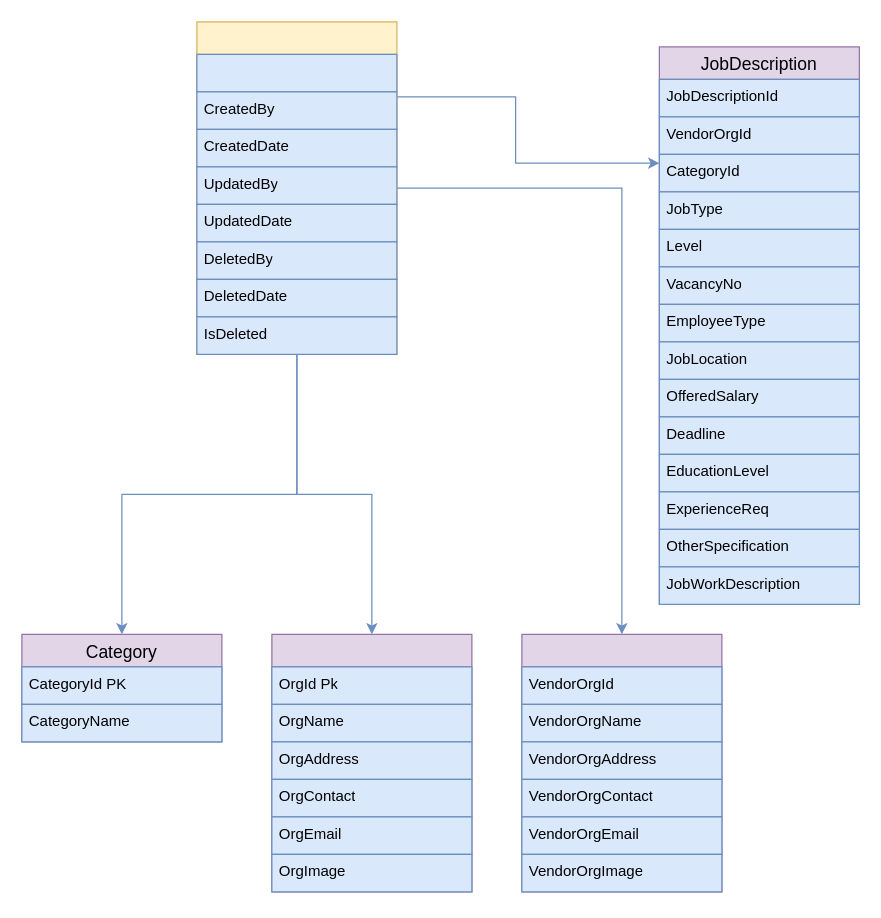
The diagram is 881 pixels wide and 918 high, and some of its shapes have lost their labels. Each missing label, with the box of its shape:
Common: (196, 21, 397, 354)
Organization: (271, 633, 472, 892)
Status: (196, 53, 397, 92)
VendorOrganization: (521, 633, 722, 892)
